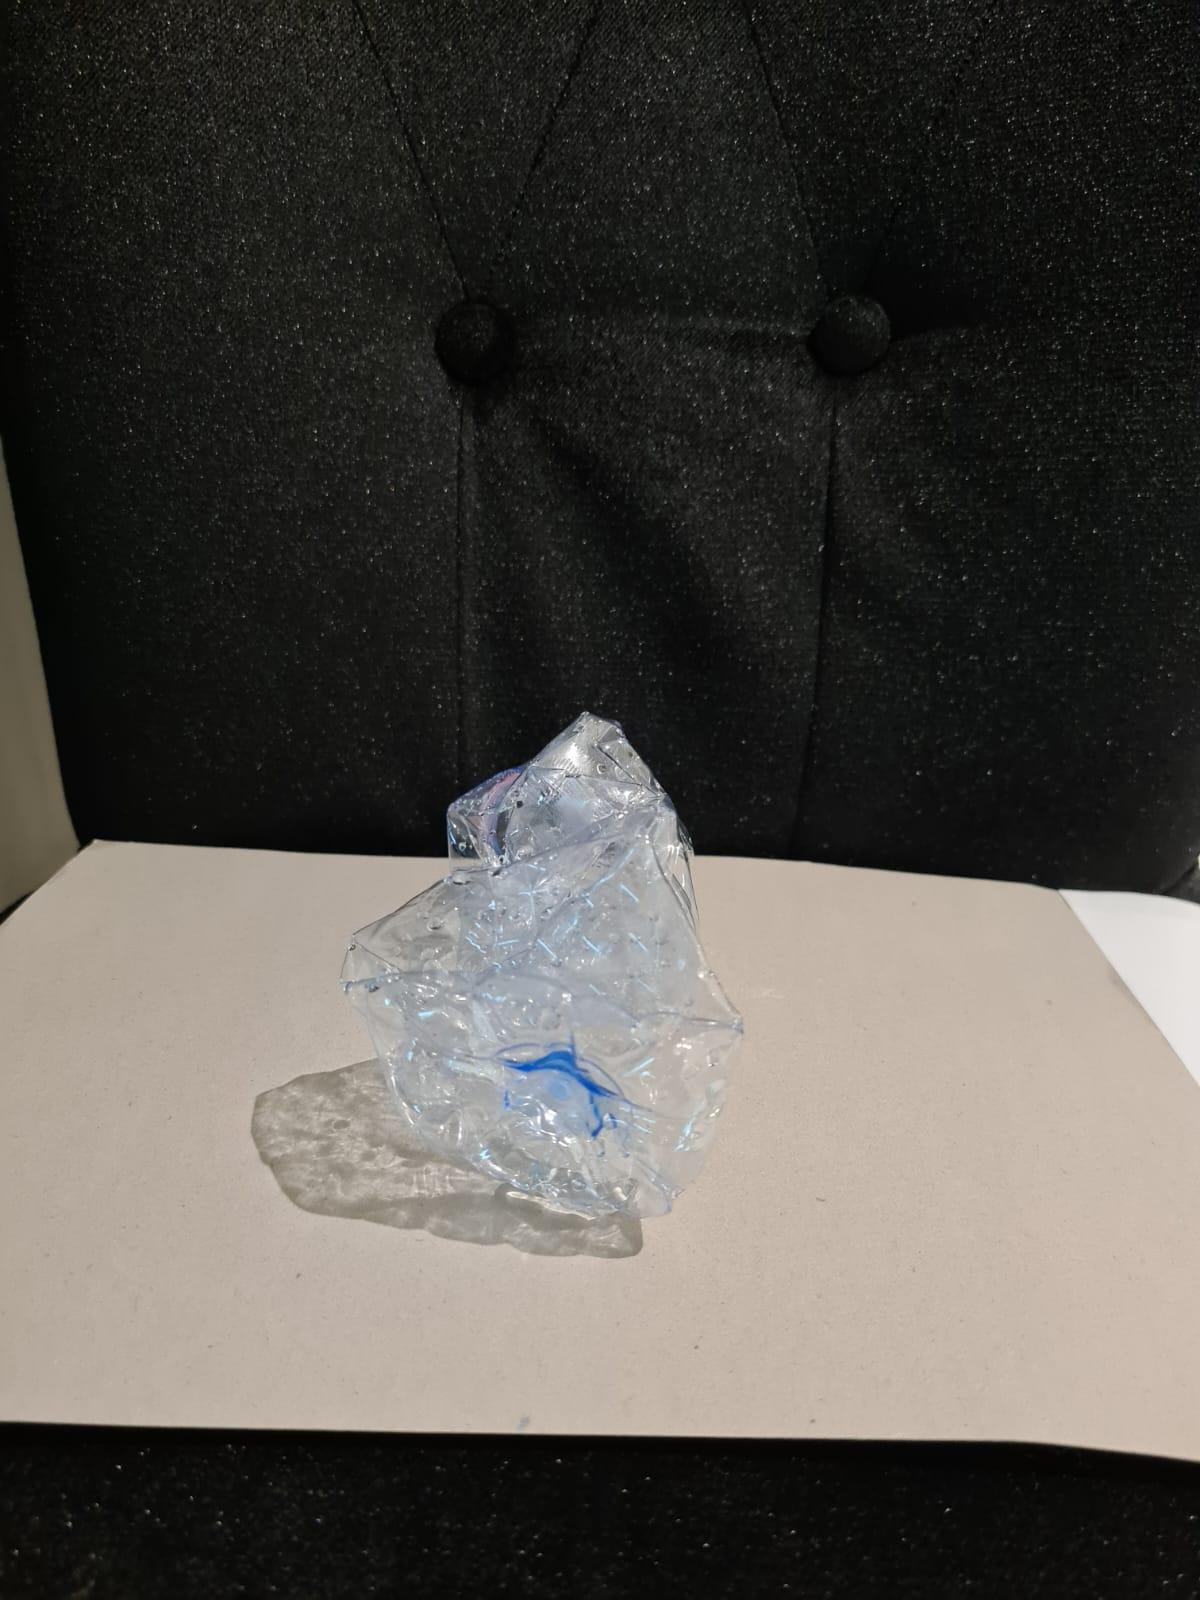bottle: (328, 714, 787, 1271)
